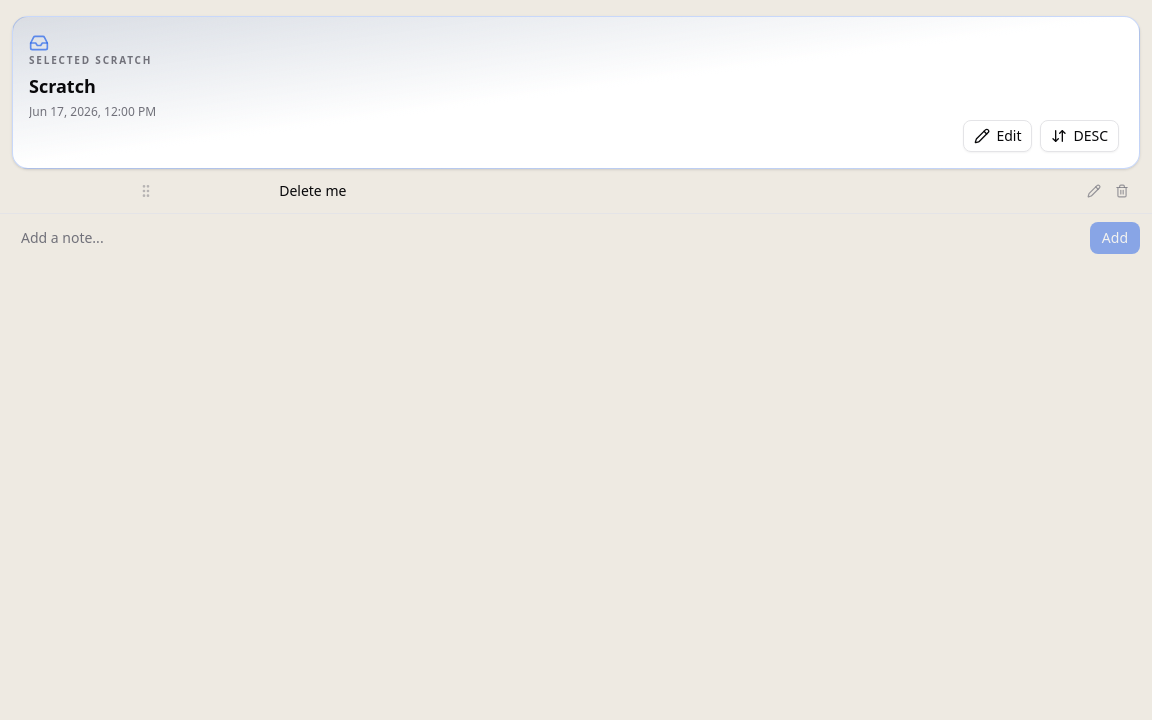
Test: BreakdownPanel › opens a confirmation dialog when the delete button is clicked
Click the button named "Delete" at coordinates (1122, 191), box left=1108, top=177, right=1136, bottom=205
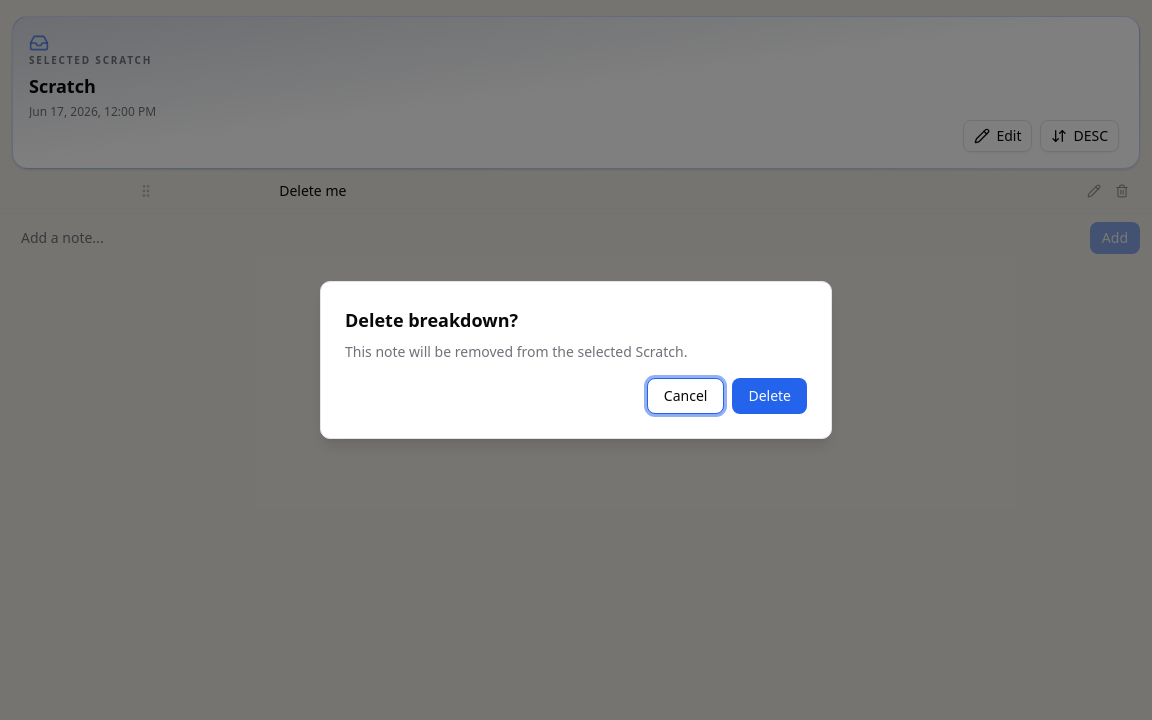
Check: the dialog is shown, box left=320, top=281, right=832, bottom=439
